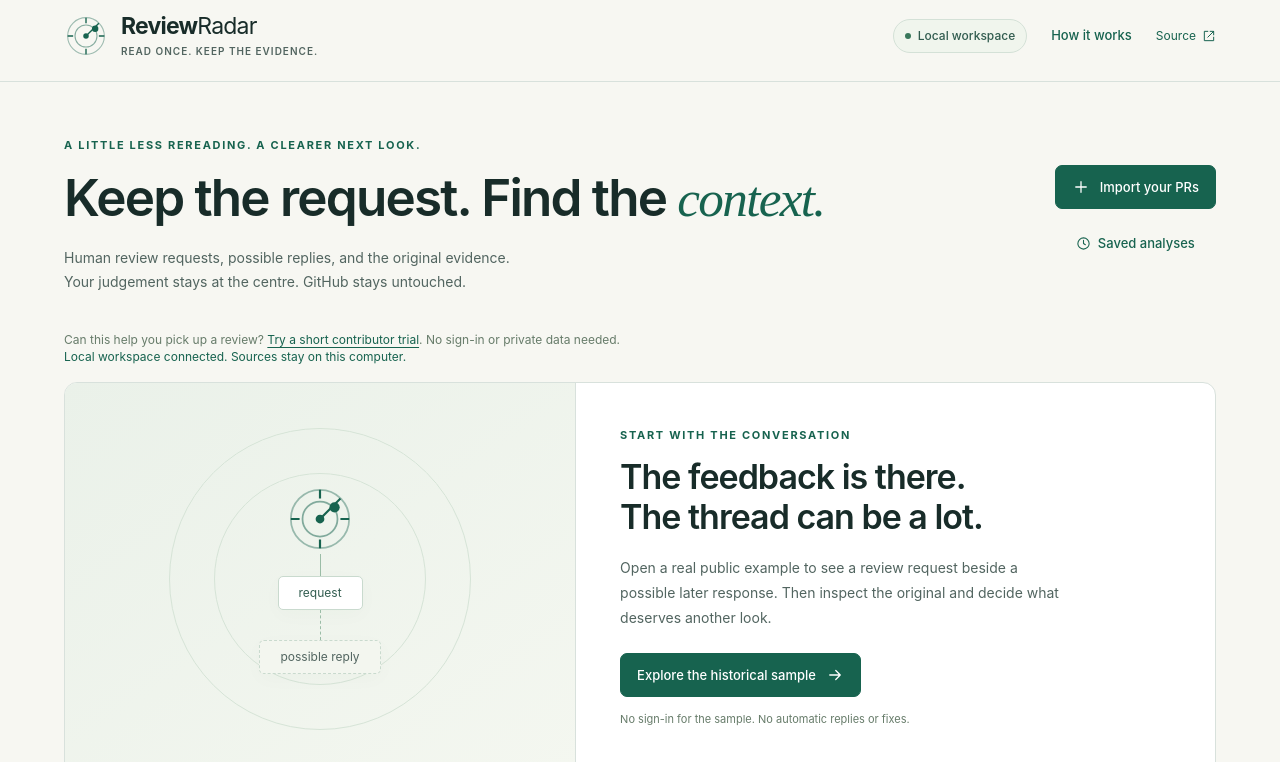
Test: evidence workbench integration (DOM simulation, not a visual browser audit) › saves and reopens decisions through the API without hiding the card
Click the button "Explore the historical sample" at (740, 675), box x1=620 y1=653 x2=861 y2=697
(page scrolled)
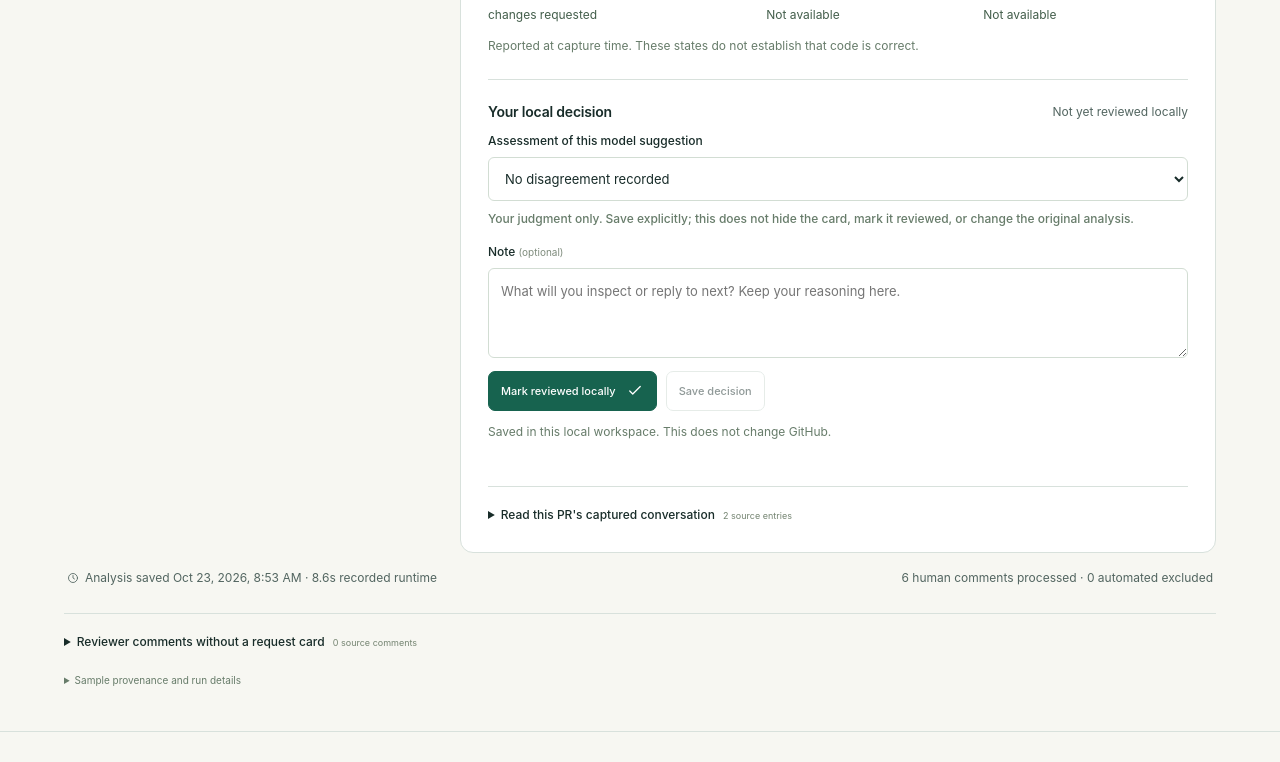
Now the button "Mark reviewed locally" is shown
Click the button "Mark reviewed locally" at (572, 391), box x1=488 y1=371 x2=657 y2=411
(page scrolled)
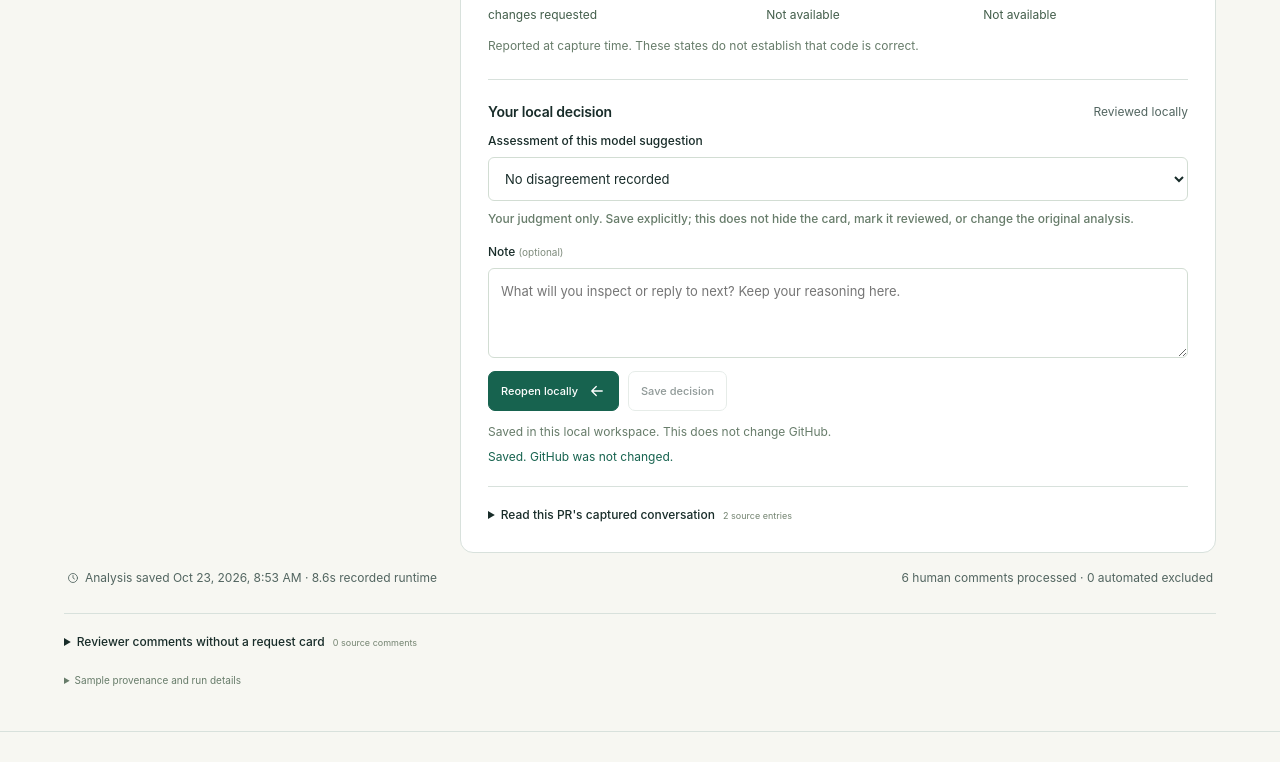
Now the button "Reopen locally" is shown
Click the button "Reopen locally" at (554, 391), box x1=488 y1=371 x2=619 y2=411
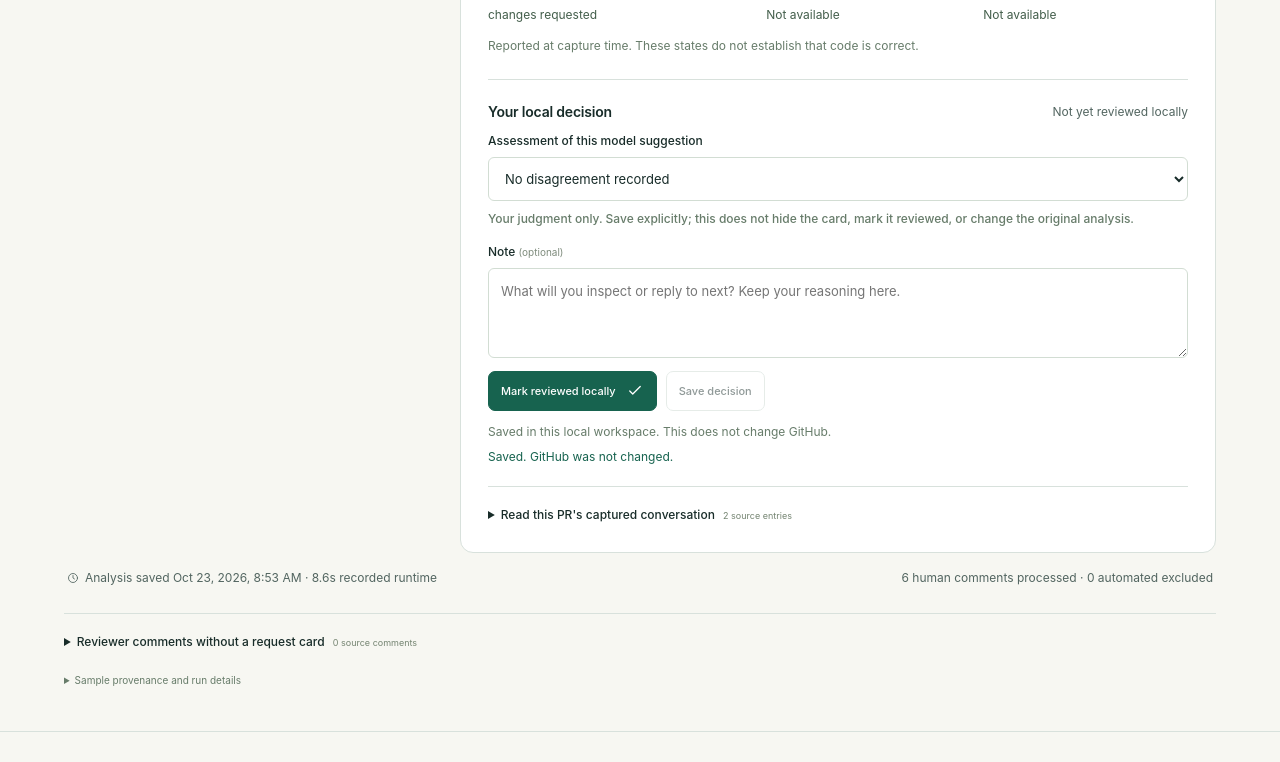
Now the button "Mark reviewed locally" is shown, box x1=488 y1=371 x2=657 y2=411
